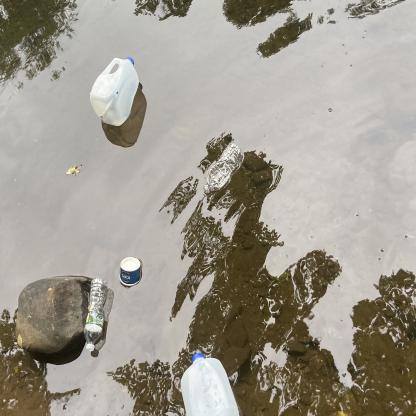trash: (86, 48, 143, 128), (178, 348, 242, 416), (202, 136, 247, 195), (82, 274, 110, 355), (116, 251, 146, 290)
